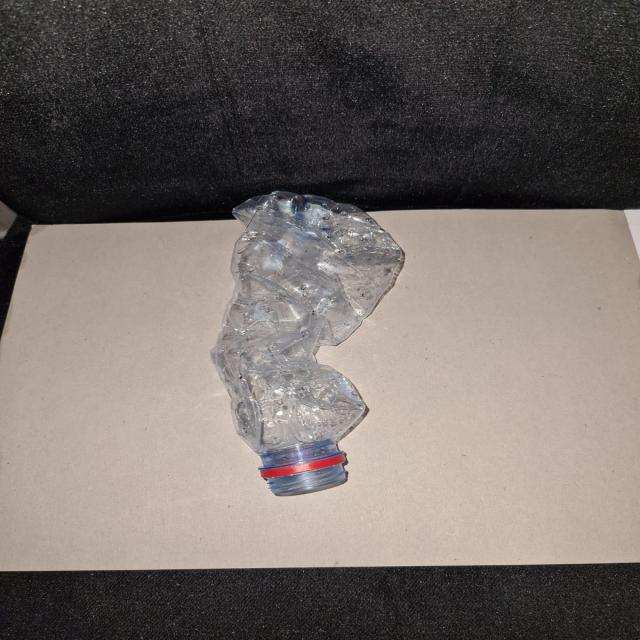bottle: (206, 188, 389, 501)
